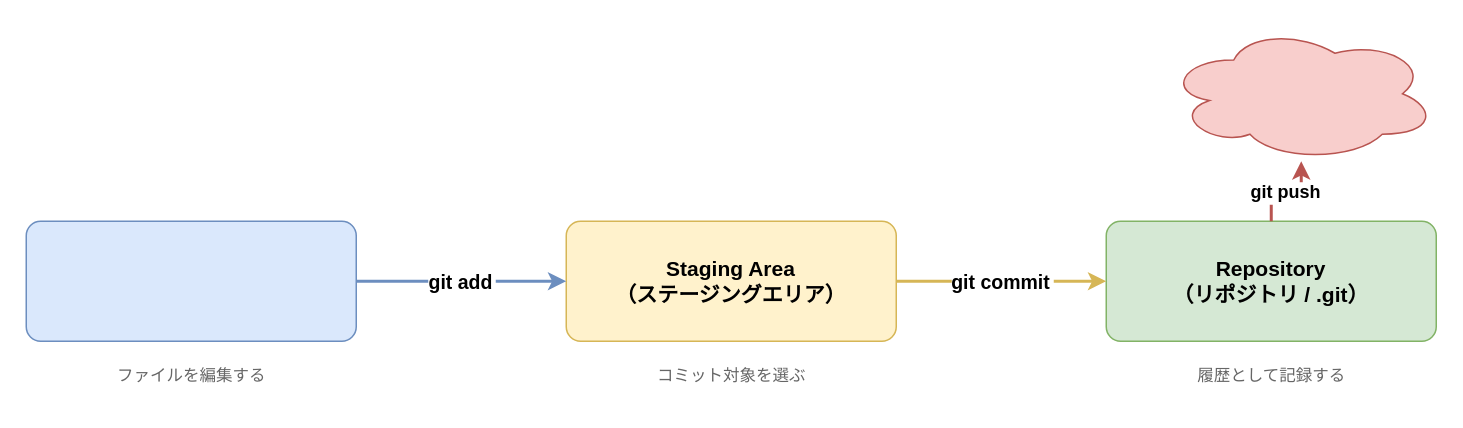
Some shapes in this 1463 by 428 pixel diagram are drawn without their labels. Here are the shapes that lost their labels. From the top down, the centre of each, then its label:
pixel 1300 93: Remote （GitHub等）
pixel 190 280: Working Directory （作業ディレクトリ）
